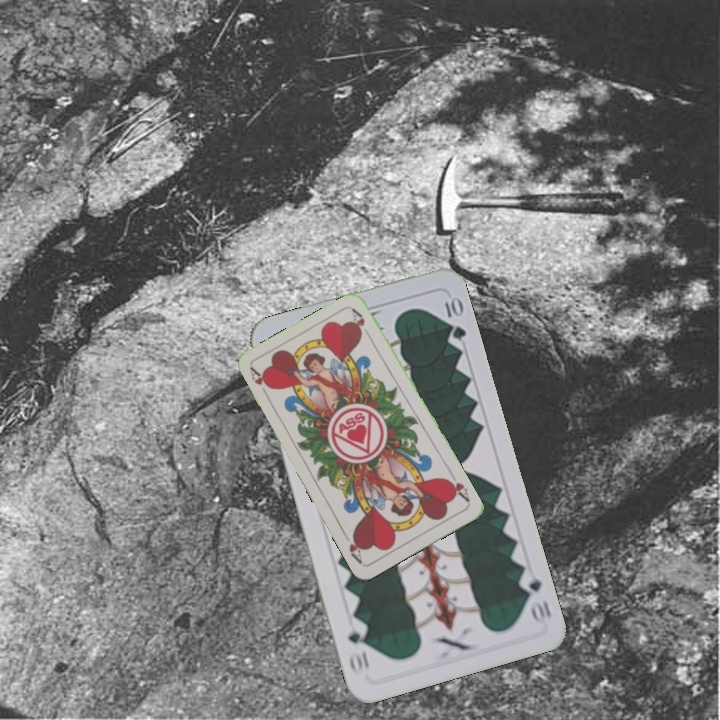G10: (515, 570, 554, 625)
HA: (441, 469, 473, 505), (246, 364, 274, 401)
